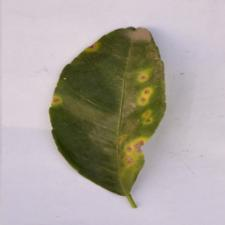Canker: (42, 31, 166, 173)
